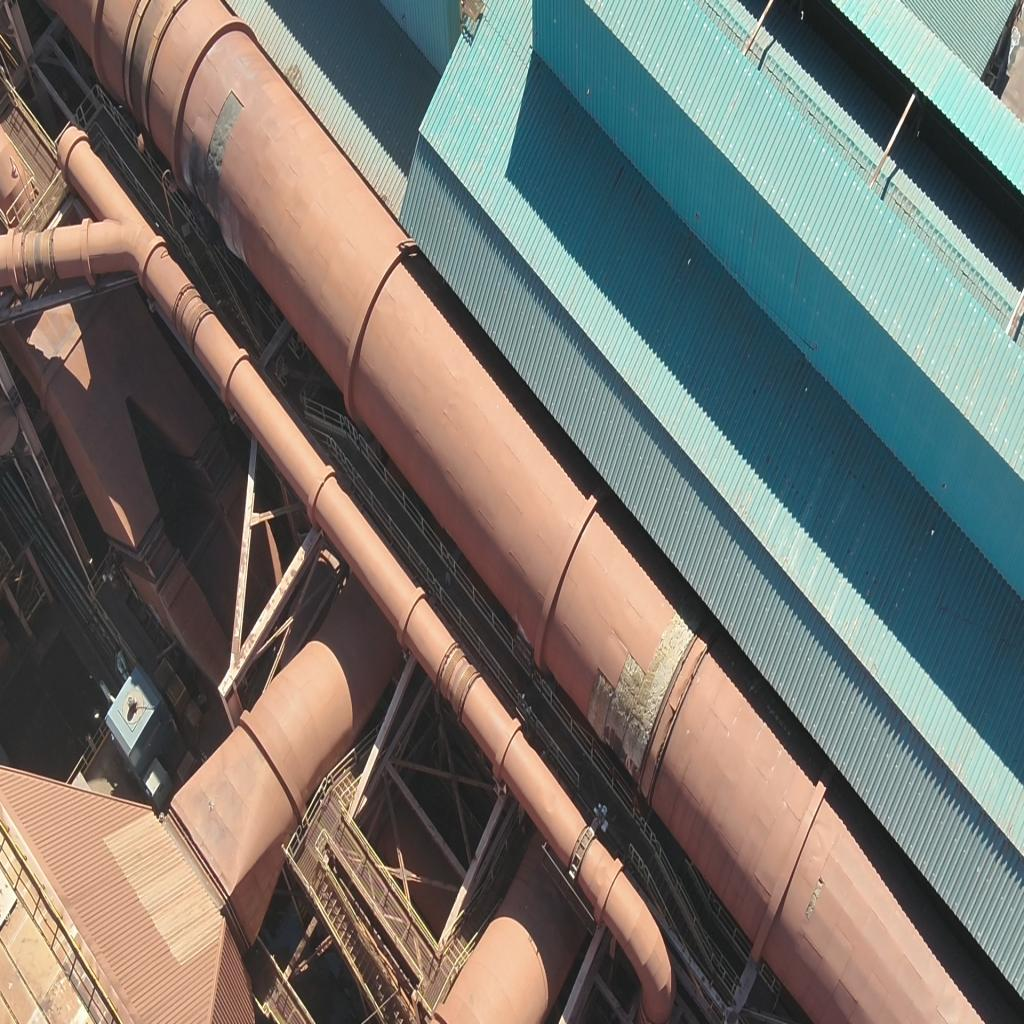Failures: (624, 610, 692, 770), (202, 91, 244, 214), (608, 653, 644, 757), (588, 669, 612, 738), (804, 876, 824, 924)
